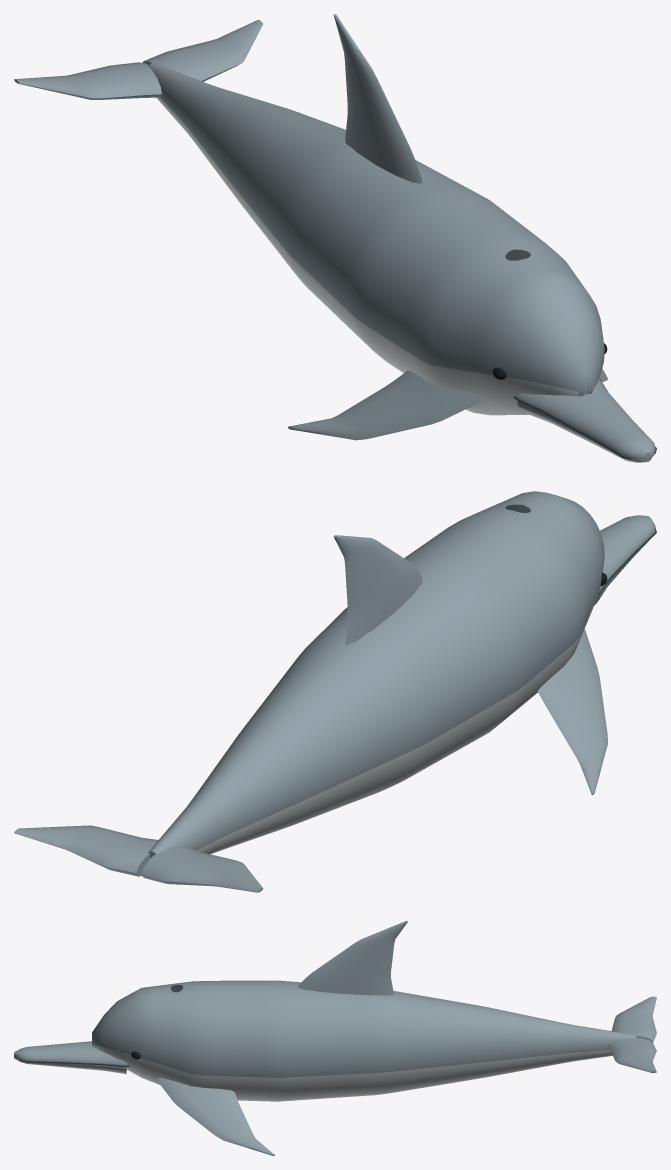
3 renders of one model, top to bottom at view 1: azimuth 30°, elevation 25°; view 2: azimuth 150°, elevation 25°; view 3: azimuth 270°, elevation 25°, orthographic. The views are drawn at different scales.
Parts seen in each view (by area): view 1: Body_complete_melon_belly_peduncle, Left_pectoral_flipper, Single_falcate_dorsal_fin, Short_rounded_rostrum, Left_horizontal_tail_fluke, Right_horizontal_tail_fluke; view 2: Body_complete_melon_belly_peduncle, Left_pectoral_flipper, Single_falcate_dorsal_fin, Right_horizontal_tail_fluke, Left_horizontal_tail_fluke, Short_rounded_rostrum; view 3: Body_complete_melon_belly_peduncle, Single_falcate_dorsal_fin, Right_pectoral_flipper, Short_rounded_rostrum, Left_horizontal_tail_fluke, Right_horizontal_tail_fluke.
Boxes of the visible parts, bbox=[...] form: Body_complete_melon_belly_peduncle: bbox=[148, 63, 604, 415]; Left_pectoral_flipper: bbox=[288, 370, 483, 440]; Single_falcate_dorsal_fin: bbox=[333, 14, 422, 183]; Short_rounded_rostrum: bbox=[517, 379, 655, 462]; Left_horizontal_tail_fluke: bbox=[14, 62, 161, 99]; Right_horizontal_tail_fluke: bbox=[142, 19, 262, 81]; Body_complete_melon_belly_peduncle: bbox=[148, 491, 604, 858]; Left_pectoral_flipper: bbox=[537, 629, 607, 795]; Single_falcate_dorsal_fin: bbox=[333, 535, 422, 645]; Right_horizontal_tail_fluke: bbox=[14, 825, 158, 876]; Left_horizontal_tail_fluke: bbox=[141, 846, 263, 892]; Short_rounded_rostrum: bbox=[594, 515, 655, 605]; Body_complete_melon_belly_peduncle: bbox=[92, 980, 636, 1101]; Single_falcate_dorsal_fin: bbox=[297, 921, 407, 995]; Right_pectoral_flipper: bbox=[156, 1077, 275, 1155]; Short_rounded_rostrum: bbox=[14, 1041, 126, 1074]; Left_horizontal_tail_fluke: bbox=[611, 996, 656, 1042]; Right_horizontal_tail_fluke: bbox=[608, 1038, 656, 1072].
Bounding box in the file's own units: 0.96 × 0.903 × 2.8.
